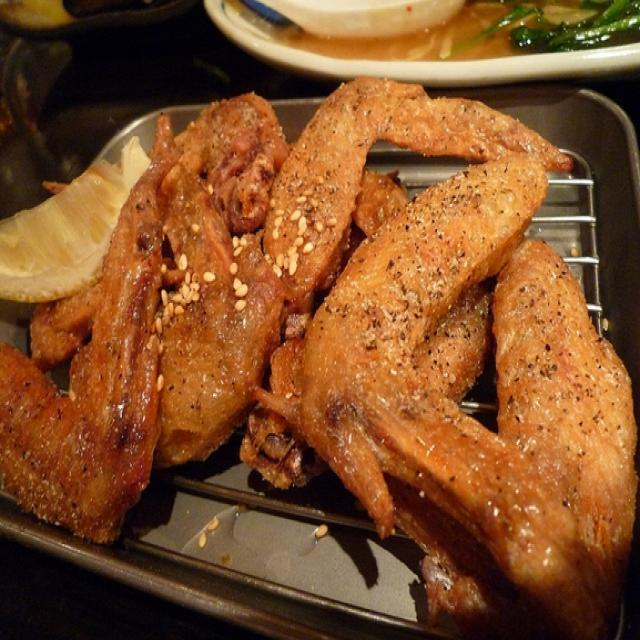Deep fried chicken wing: (38, 86, 617, 605)
Lemon: (8, 109, 134, 309)
